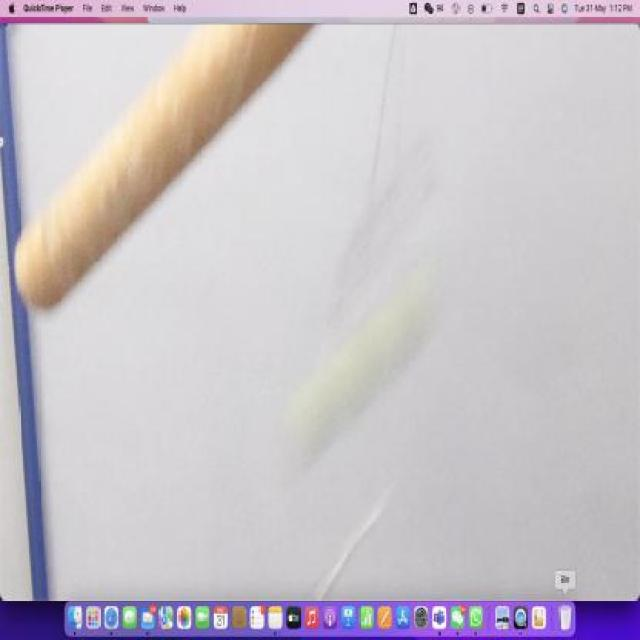baseball: (287, 286, 451, 472)
